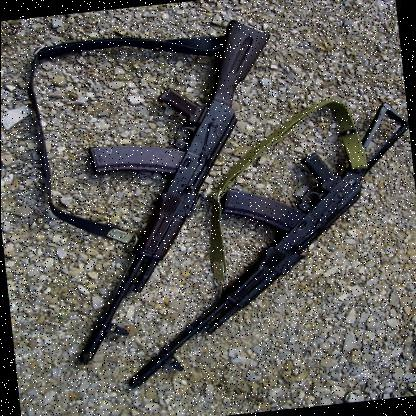rifle: (35, 15, 304, 368), (99, 96, 416, 385)
